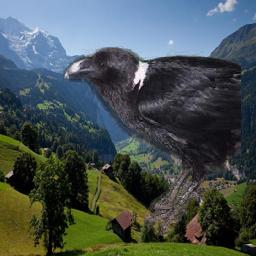Crow: (63, 46, 241, 236)
